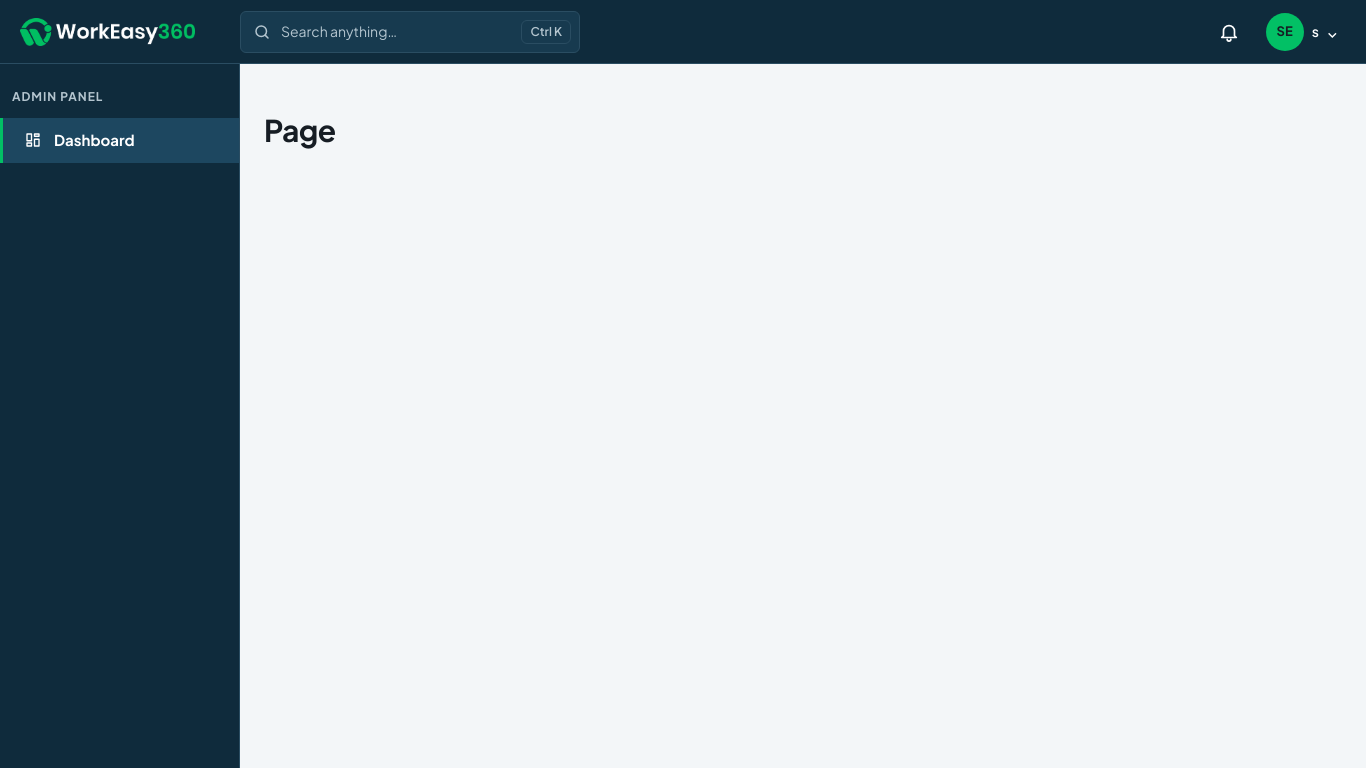
the Super Admin shell › says so when signing out fails, instead of pretending it worked
Expected: the heading "Page" is shown, [264,111,335,149]
// Sign out lives in the account menu of the shared shell.
Click the button with aria-label "Account menu".
click(1302, 32)  # box [1262,10,1342,52]
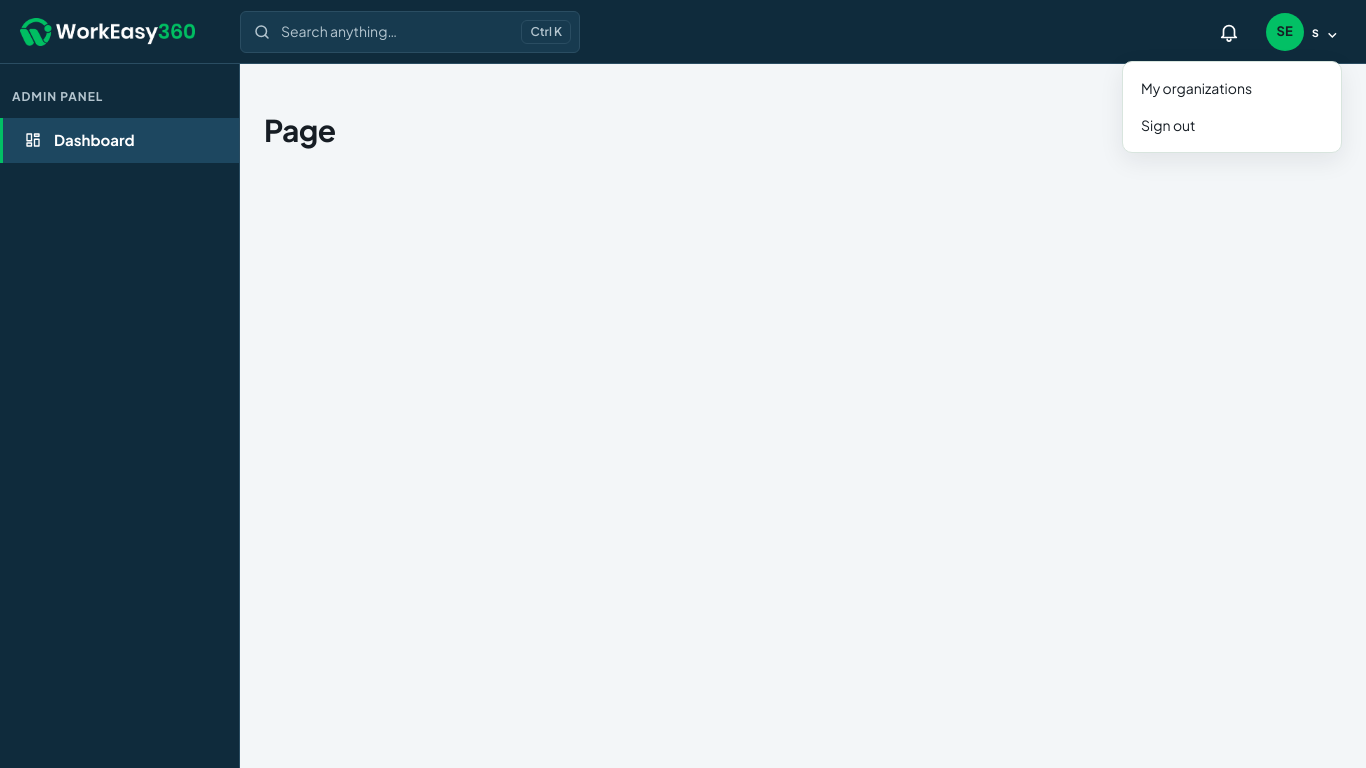
Click the menu item "Sign out".
click(1232, 125)  # box [1131,106,1333,144]
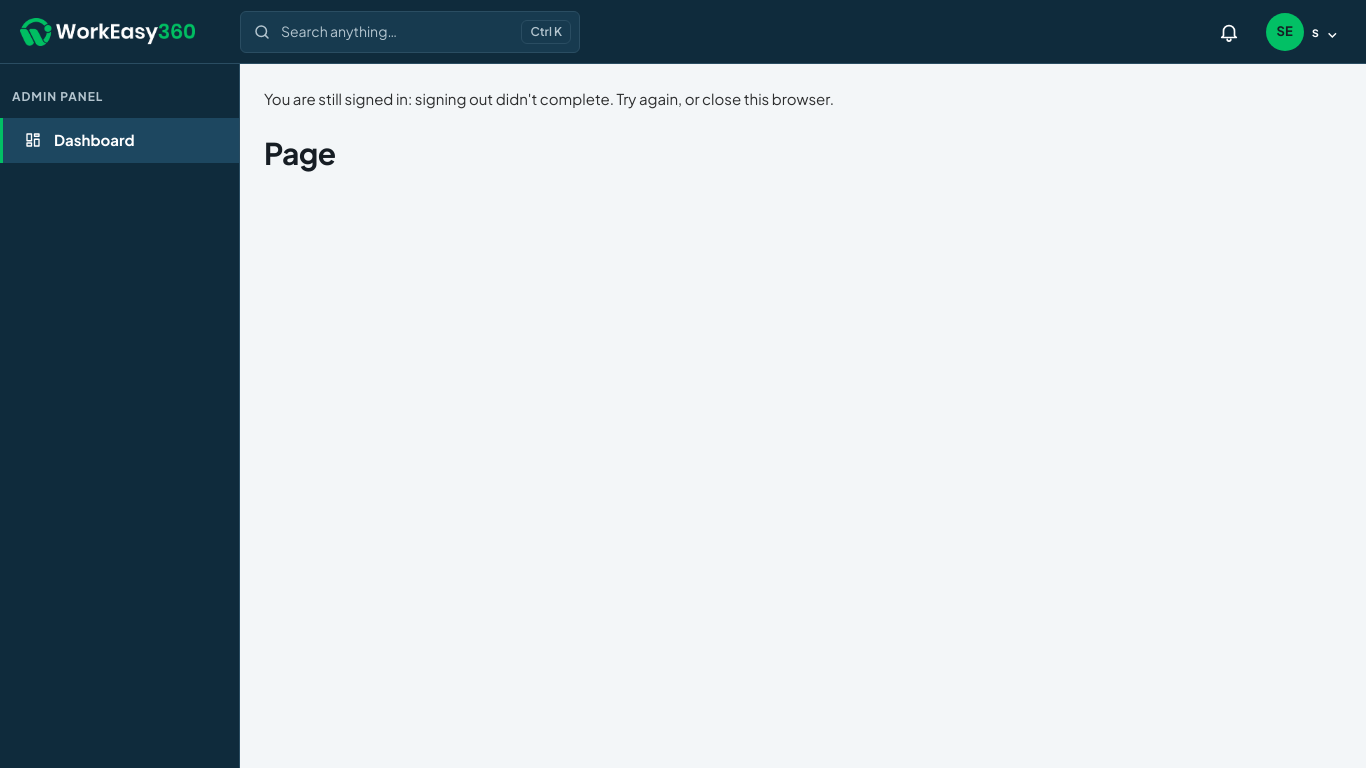
Expected: the message shows "still signed in", [264,89,834,108]
